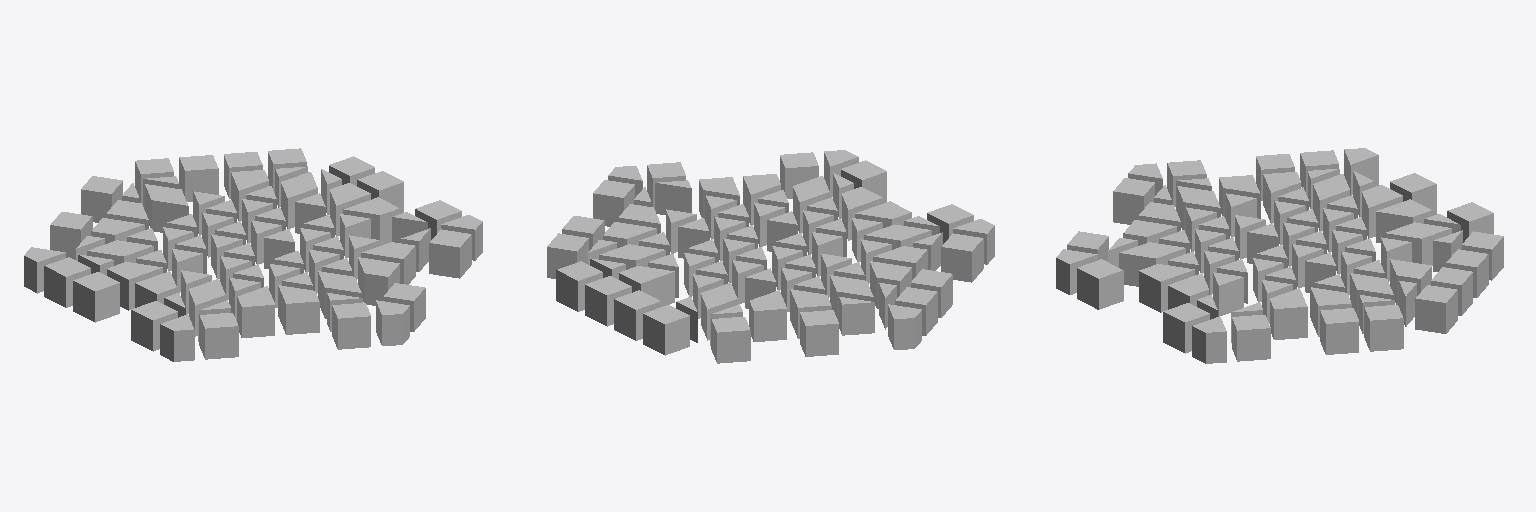
The model's file is hex2.obj.
3 views of the same model, side by side, from view 1: azimuth 30°, elevation 25°; view 2: azimuth 150°, elevation 25°; view 3: azimuth 270°, elevation 25° (orthographic).
Visible parts, largest first — view 1: Hexagon; view 2: Hexagon; view 3: Hexagon.
Part boxes in pixels (bbox=[...]): Hexagon: bbox=[24, 148, 482, 361]; Hexagon: bbox=[547, 150, 994, 363]; Hexagon: bbox=[1056, 148, 1503, 363].
Bounding box in the file's own units: 2.39 × 0.1875 × 2.45.